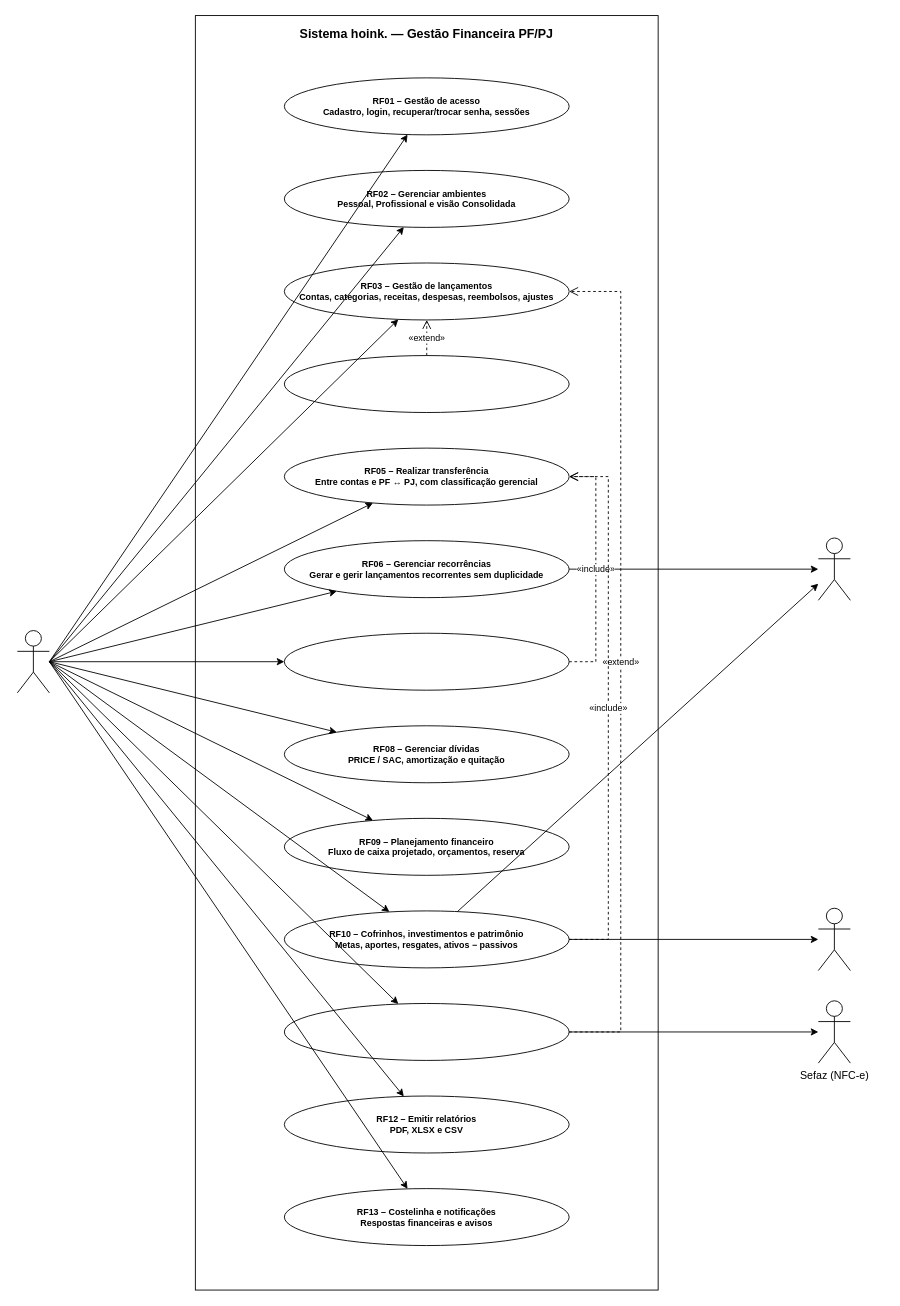
This 900x1306 diagram has some shape labels left out. Here are the shapes that lost their labels. From the top down, the centre of each, then its label:
the point at 426,384: RF04 – Liquidar lançamento Liquidação parcial/total e cálculo de saldos
the point at 833,568: Agendador (Cron)
the point at 32,661: Usuário
the point at 426,661: RF07 – Gerenciar cartões de crédito Compras parceladas, faturas e pagamento
the point at 833,939: Banco Central (SGS)
the point at 426,1031: RF11 – Ler nota fiscal (NFC-e) QR Code → preenche o lançamento
